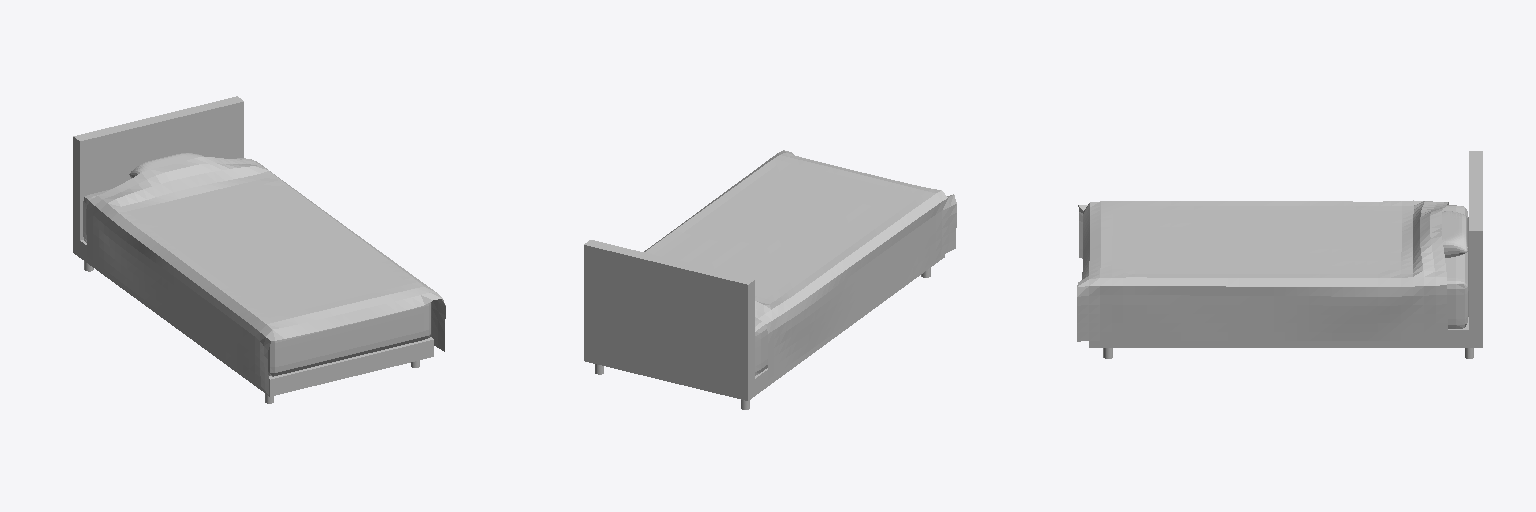
Rendered from N_bed.obj.
3 views of the same model, side by side, from view 1: azimuth 30°, elevation 25°; view 2: azimuth 150°, elevation 25°; view 3: azimuth 270°, elevation 25° (orthographic).
Visible parts, largest first — view 1: Bed.004; view 2: Bed.004; view 3: Bed.004.
Part boxes in pixels (left/top/right/bottom): Bed.004: left=73, top=96, right=445, bottom=403; Bed.004: left=584, top=150, right=956, bottom=409; Bed.004: left=1077, top=151, right=1482, bottom=358.
Bounding box in the file's own units: 5.38 × 3.79 × 10.67.